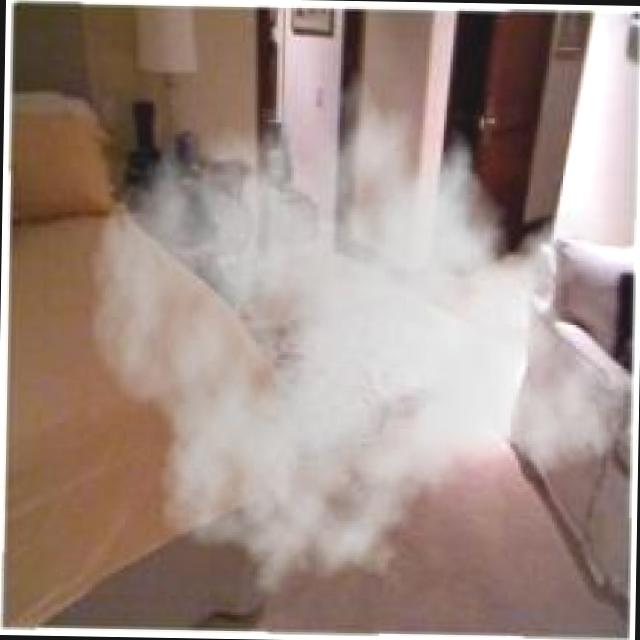smoke: (190, 152, 516, 488)
